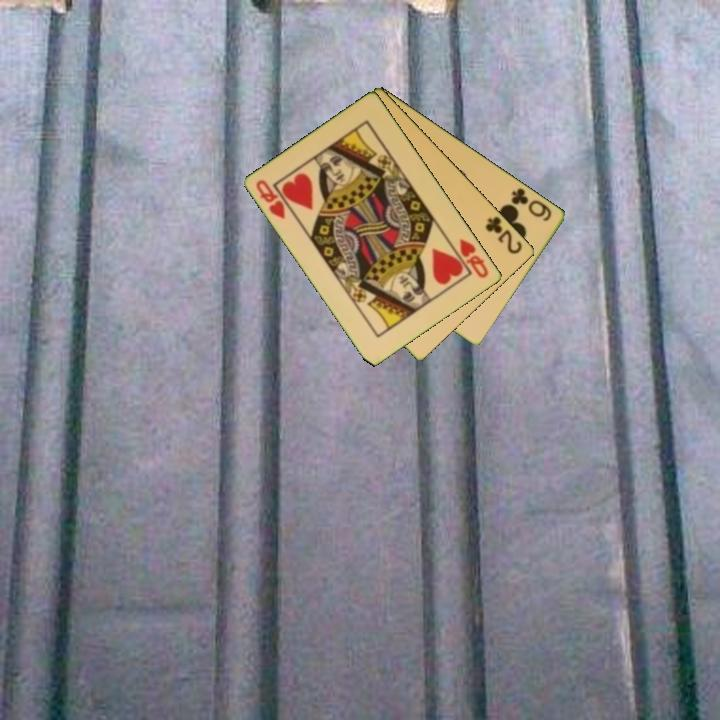2c: (482, 213, 526, 257)
6c: (508, 184, 555, 224)
Qh: (448, 235, 492, 281), (253, 176, 289, 222)
